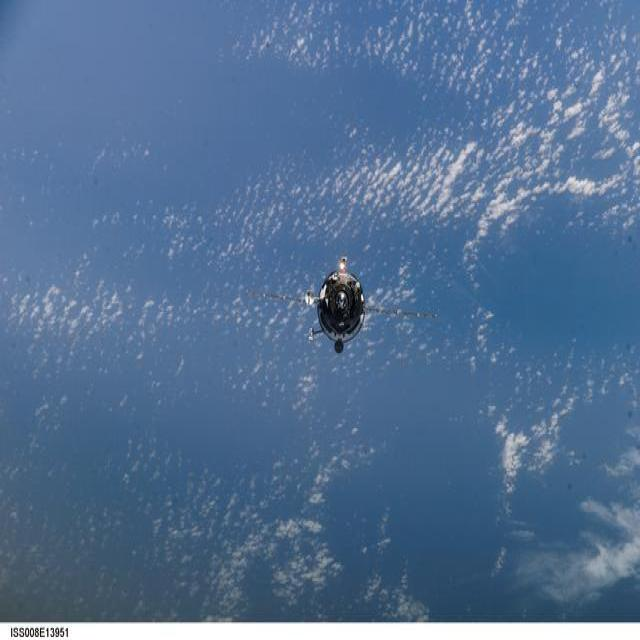satellite: (251, 246, 418, 358)
